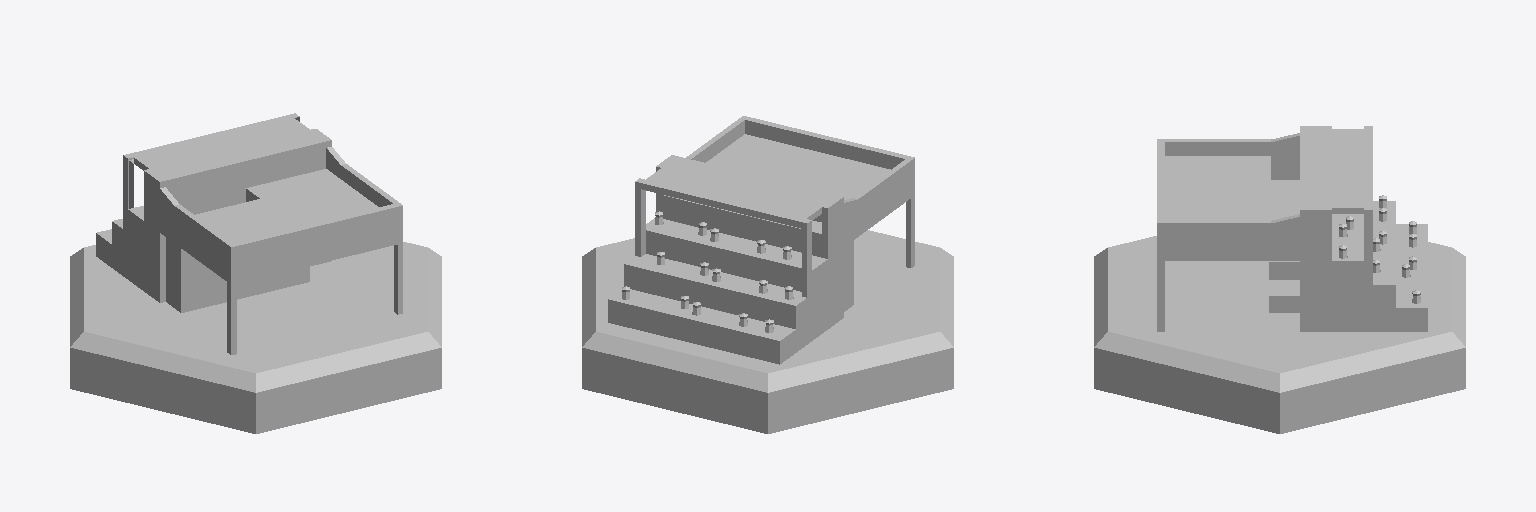
Rendered from tower_publikum.obj.
3 renders of one model, left to right at view 1: azimuth 30°, elevation 25°; view 2: azimuth 150°, elevation 25°; view 3: azimuth 270°, elevation 25°, orthographic.
Visible parts, largest first — view 1: tower_publikum; view 2: tower_publikum; view 3: tower_publikum.
Part boxes in pixels (x1,y1,x2,y2): tower_publikum: (70, 113, 441, 433); tower_publikum: (582, 116, 953, 433); tower_publikum: (1094, 126, 1465, 433).
Bounding box in the file's own units: 2 × 0.9 × 1.73.